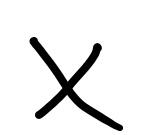mult: (29, 37, 123, 131)
